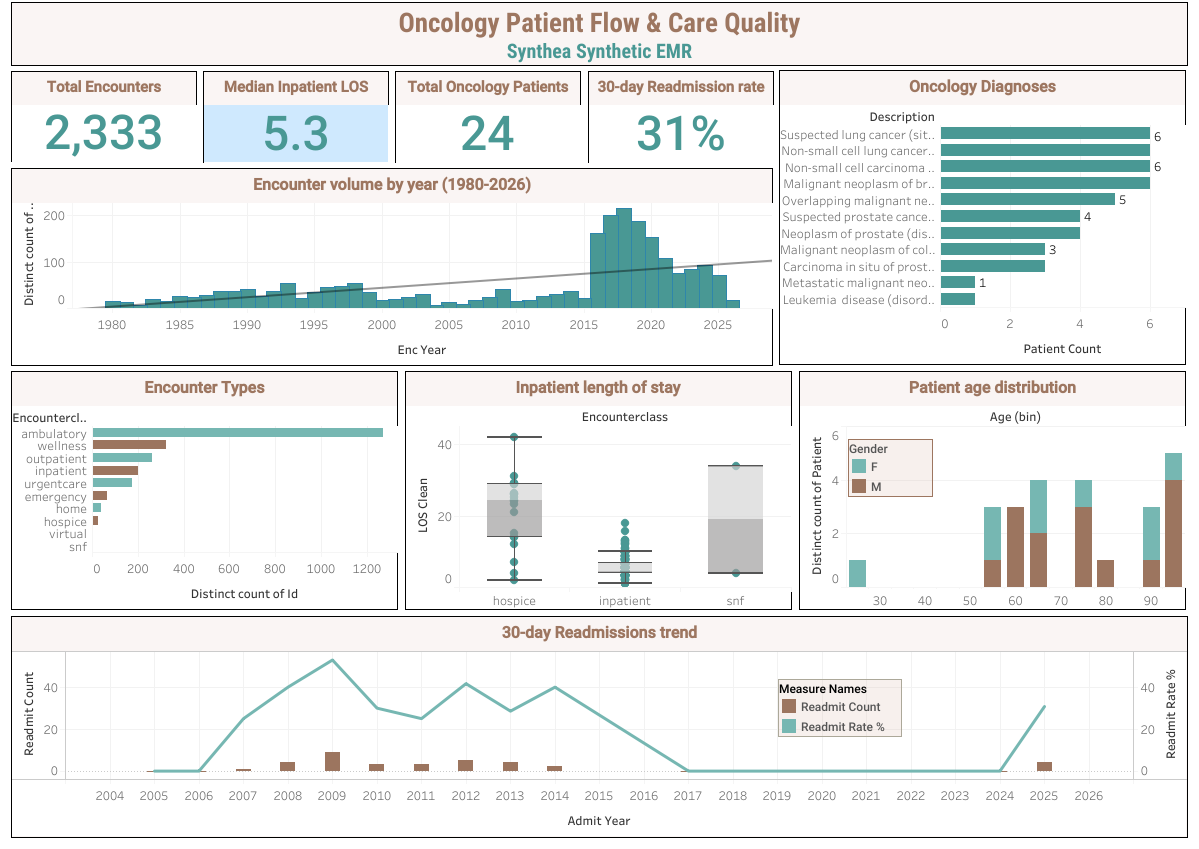

The page's visual inventory and layout, read from the dashboard file:
{"tool":"tableau","page":{"name":"Dashboard 1","canvas":[1200,850],"ordinal":0},"visuals":[{"type":"text","box":[11,2,1177,64]},{"type":"worksheet","title":"Oncology Diagnoses","mark":"Automatic","rows":["description"],"cols":["patient_count"],"box":[779,70,407,295]},{"type":"worksheet","title":"KPI-Encounters","mark":"Automatic","box":[11,71,186,91]},{"type":"worksheet","title":"KPI - LOS","mark":"Automatic","box":[203,71,186,92]},{"type":"worksheet","title":"KPI Card - Patient","mark":"Automatic","box":[395,71,186,92]},{"type":"worksheet","title":"KPI - Readmission","mark":"Automatic","box":[588,71,186,92]},{"type":"worksheet","title":"Volume by Year","mark":"Bar","rows":["id"],"cols":["enc_year"],"box":[11,168,762,198]},{"type":"worksheet","title":"Encounter Types","mark":"Automatic","rows":["encounterclass"],"cols":["id"],"box":[11,371,387,239]},{"type":"worksheet","title":"LOS Analysis","mark":"Circle","rows":["Calculation_0014280771293252"],"cols":["encounterclass"],"box":[405,371,387,239]},{"type":"worksheet","title":"Age Distribution","mark":"Bar","rows":["patient"],"cols":["Age (bin)"],"box":[799,371,387,239]},{"type":"legend","title":"Age Distribution","param":"[federated.13zyxz61vqs35j1h1ljfk0xqg5ps].[none:gender:nk]","box":[848,439,85,59]},{"type":"worksheet","title":"30D Read","mark":"Bar","rows":["Calculation_0001155362525226","Calculation_0001155362951211"],"cols":["admit_year"],"box":[11,616,1177,222]},{"type":"legend","title":"30D Read","param":"[federated.124injj0ezy5ws1fo1vxc0xfl6tg].[:Measure Names]","box":[778,679,124,59]}]}

Visuals, with their boxes in screenshot pixels (x1, y1, x2, y2), scaled from the page's 1200x850 canvas onto the 1199x849 screenshot:
text: bbox=(11, 2, 1187, 66)
"Oncology Diagnoses" worksheet: bbox=(778, 70, 1185, 365)
"KPI-Encounters" worksheet: bbox=(11, 71, 197, 162)
"KPI - LOS" worksheet: bbox=(203, 71, 389, 163)
"KPI Card - Patient" worksheet: bbox=(395, 71, 581, 163)
"KPI - Readmission" worksheet: bbox=(588, 71, 773, 163)
"Volume by Year" worksheet (Bar marks): bbox=(11, 168, 772, 366)
"Encounter Types" worksheet: bbox=(11, 371, 398, 609)
"LOS Analysis" worksheet (Circle marks): bbox=(405, 371, 791, 609)
"Age Distribution" worksheet (Bar marks): bbox=(798, 371, 1185, 609)
"Age Distribution" legend: bbox=(847, 438, 932, 497)
"30D Read" worksheet (Bar marks): bbox=(11, 615, 1187, 837)
"30D Read" legend: bbox=(777, 678, 901, 737)
